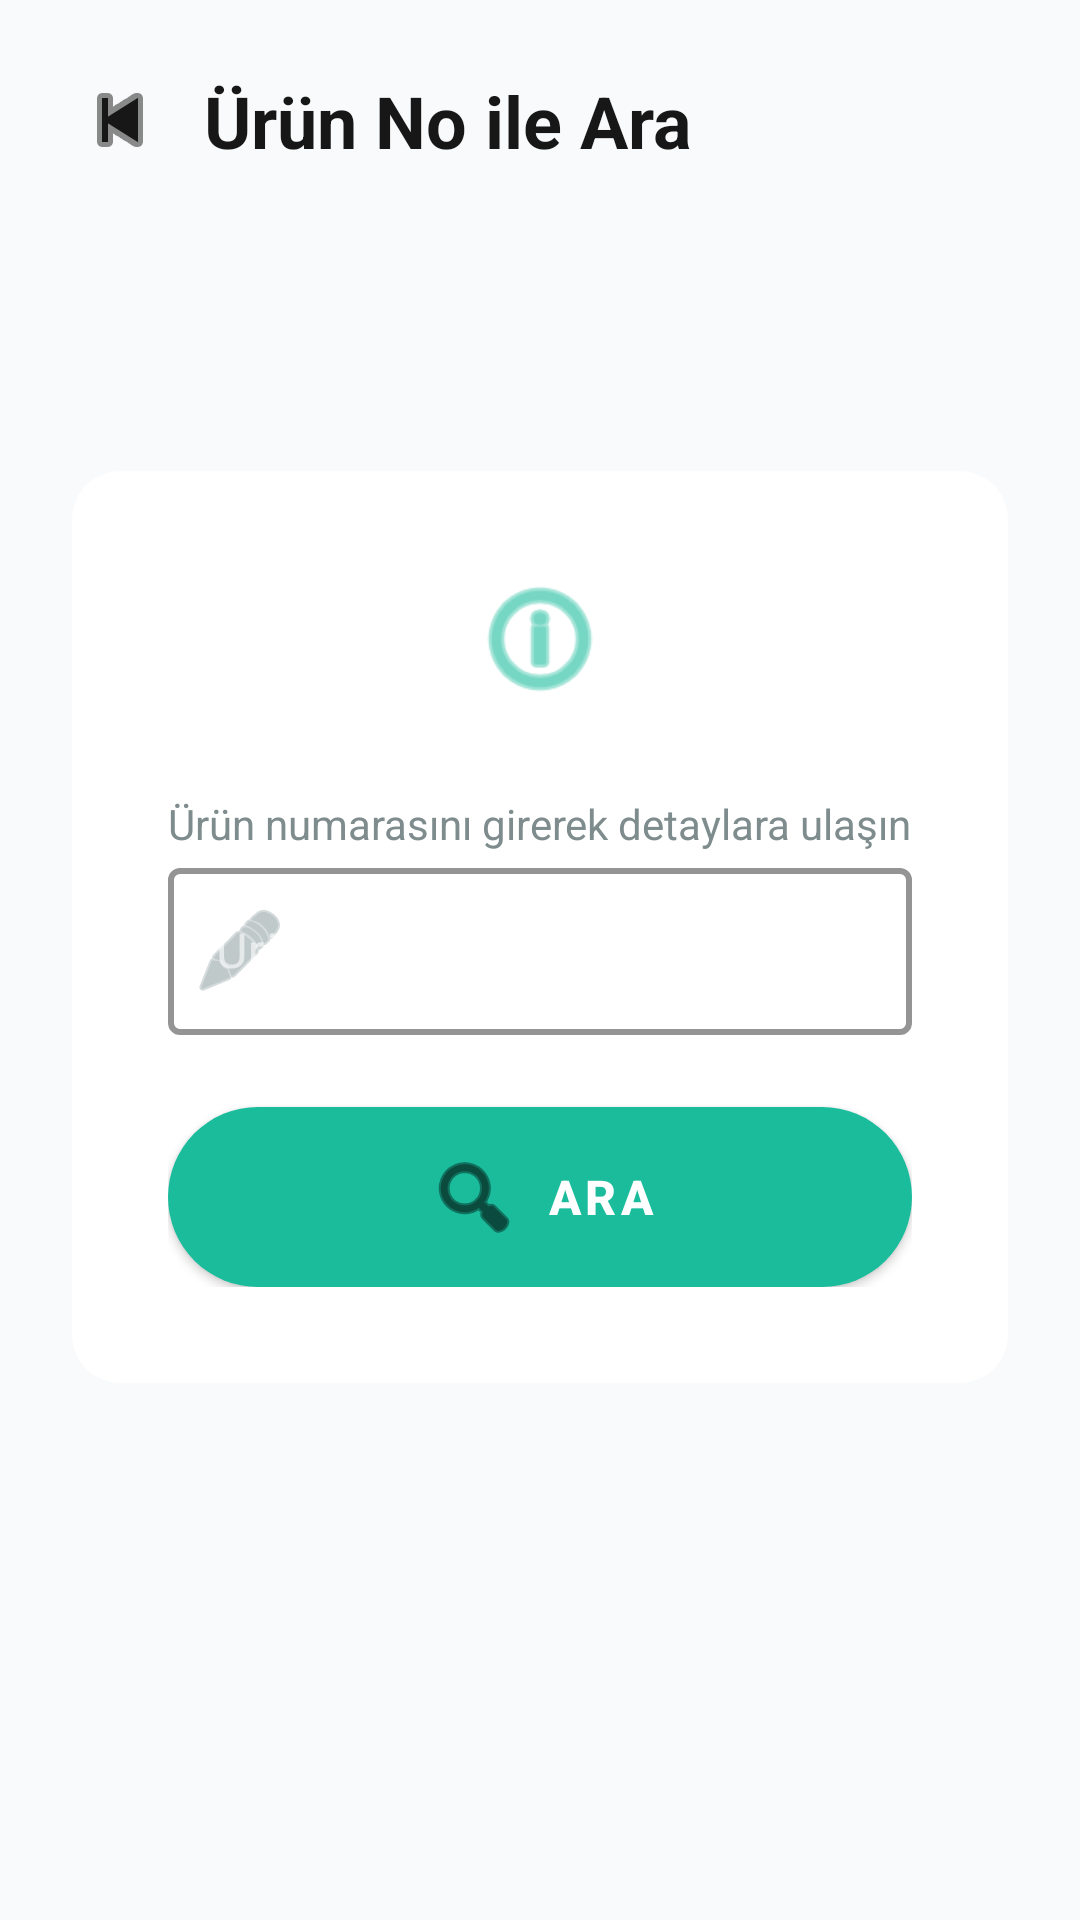

Where to tap for icons on this 1080w x 1920h app screen, as [x,y]:
Geri: [120,120]
info details: [540,639]
